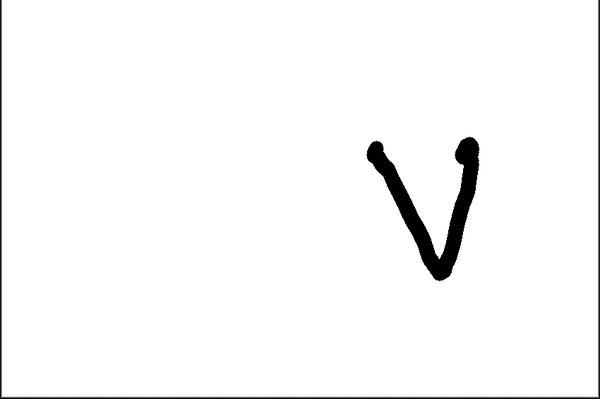V: (358, 135, 505, 287)
